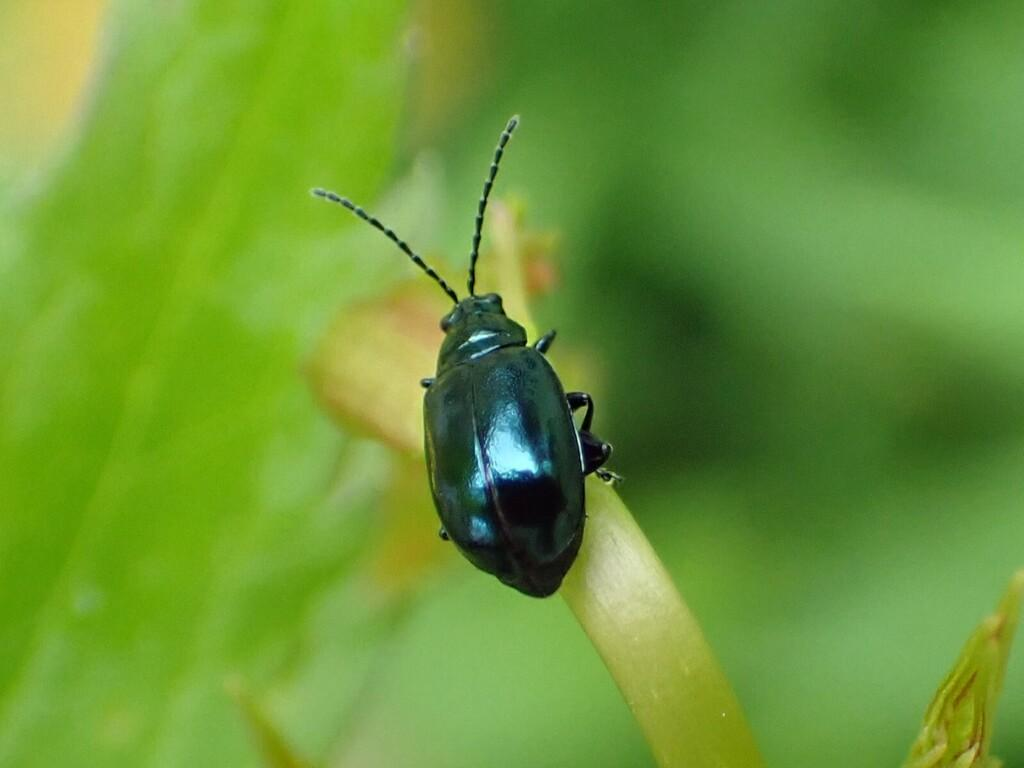flea_beetle: (249, 69, 749, 669)
